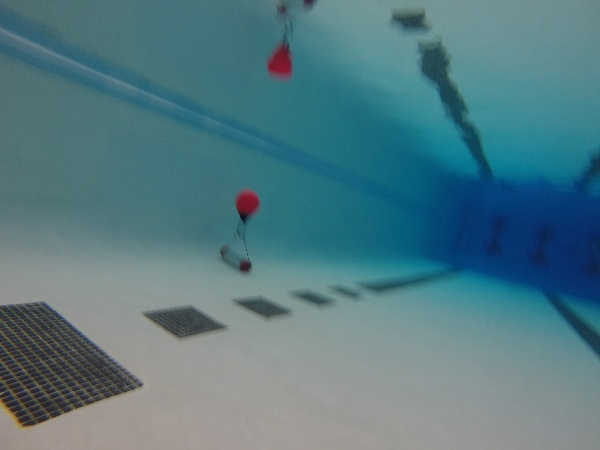buoy_red: (234, 188, 260, 222)
